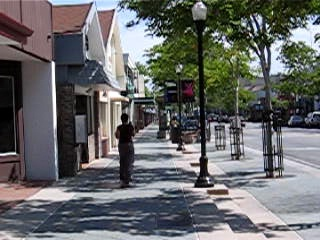person: (116, 113, 139, 186), (115, 113, 138, 186), (117, 113, 140, 186), (116, 112, 139, 185), (116, 114, 139, 187)
target_negative: (6, 106, 199, 240), (124, 72, 292, 195), (96, 6, 146, 132), (19, 89, 60, 238), (79, 123, 178, 174), (200, 161, 242, 187)
